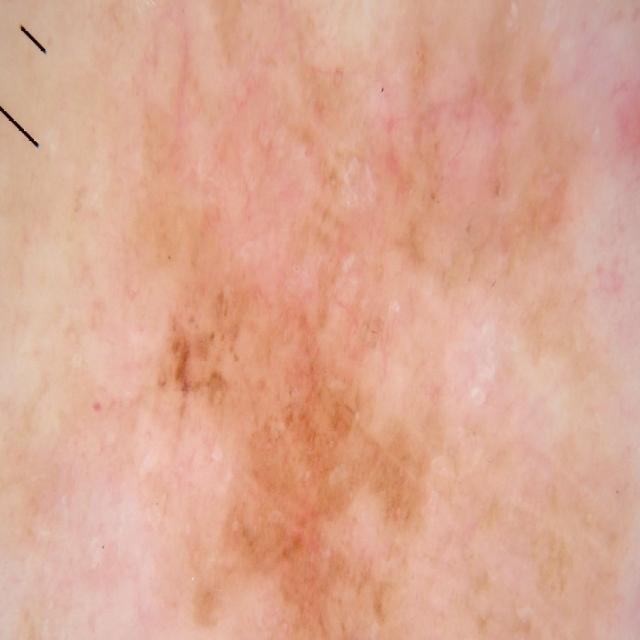Melanoma: (158, 236, 421, 618)
